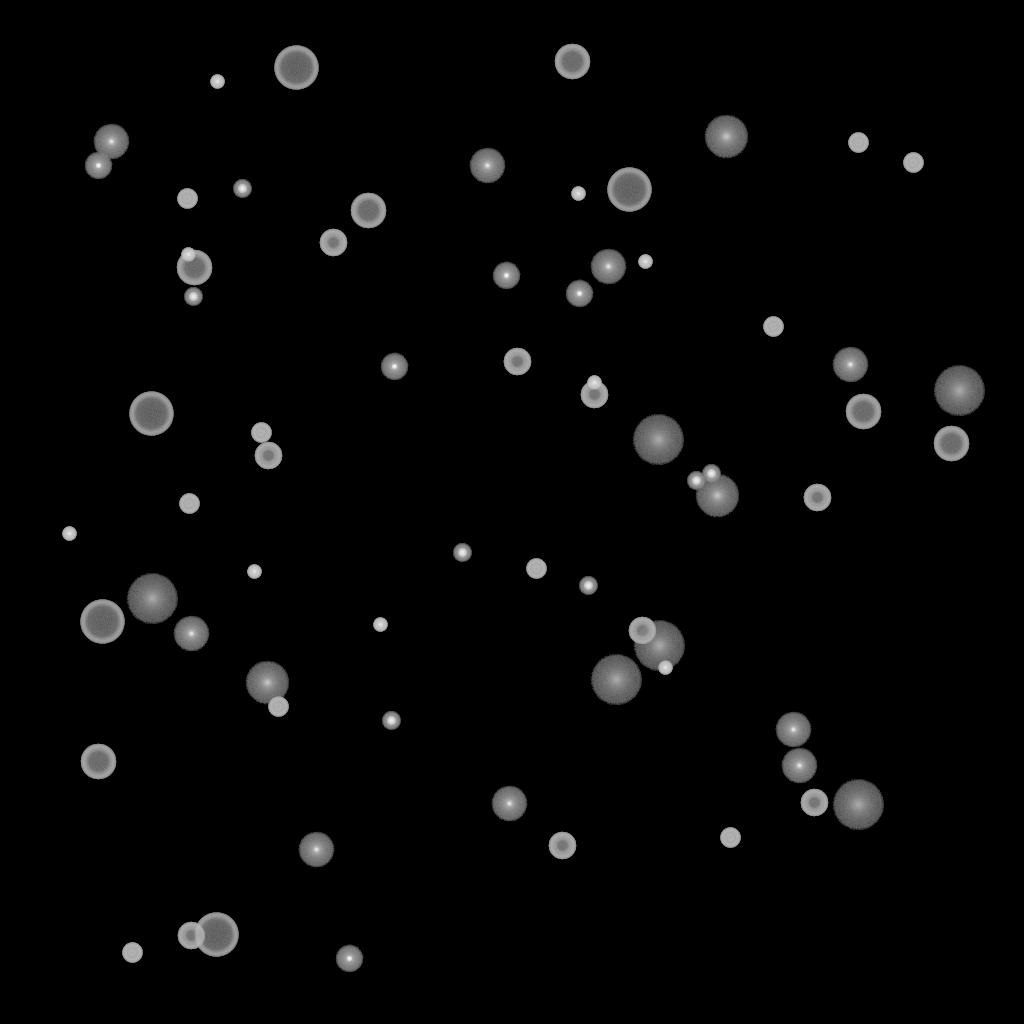depth:-10: (84, 152, 112, 180), (492, 262, 520, 290), (335, 945, 363, 973), (380, 353, 408, 381), (565, 280, 593, 308)
depth:-20: (233, 180, 251, 198), (702, 465, 720, 483), (687, 472, 705, 490), (453, 544, 471, 562), (579, 577, 597, 595), (184, 288, 202, 306), (382, 712, 400, 730)
depth:-30: (373, 618, 387, 632), (181, 248, 195, 262), (210, 75, 224, 89), (638, 255, 652, 269), (247, 565, 261, 579), (658, 661, 672, 675), (62, 527, 76, 541), (587, 376, 601, 390), (571, 187, 585, 201)
depth:-40: (268, 697, 288, 717), (720, 828, 740, 848), (763, 317, 783, 337), (903, 153, 923, 173), (177, 189, 197, 209), (526, 559, 546, 579), (251, 423, 271, 443), (122, 943, 142, 963), (848, 133, 868, 153), (179, 494, 199, 514)
depth:-50: (319, 229, 347, 257), (503, 348, 531, 376), (548, 832, 576, 860), (800, 789, 828, 817), (803, 484, 831, 512), (628, 617, 656, 645), (580, 381, 608, 409), (254, 442, 282, 470), (177, 922, 205, 950)
depth:-60: (554, 44, 590, 80), (350, 193, 386, 229), (845, 394, 881, 430), (933, 426, 969, 462), (80, 744, 116, 780), (176, 250, 212, 286)
depth:-70: (129, 392, 173, 436), (80, 600, 124, 644), (607, 168, 651, 212), (194, 913, 238, 957), (274, 46, 318, 90)
depth:0: (93, 124, 129, 160), (298, 832, 334, 868), (469, 148, 505, 184), (173, 616, 209, 652), (590, 249, 626, 285), (832, 347, 868, 383), (781, 748, 817, 784), (775, 712, 811, 748), (491, 786, 527, 822)
depth:10: (245, 661, 289, 705), (695, 474, 739, 518), (704, 115, 748, 159)
depth:20: (632, 415, 684, 465), (633, 621, 685, 671), (126, 574, 178, 624), (590, 655, 642, 705), (933, 366, 985, 416), (832, 780, 884, 830)
